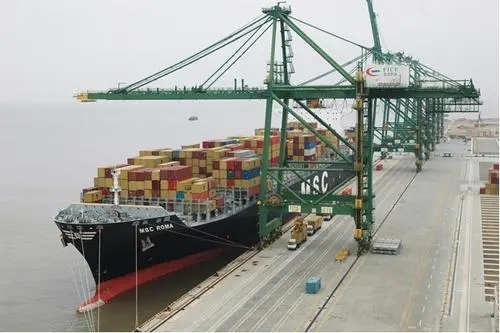Cargoship: (40, 119, 359, 307)
